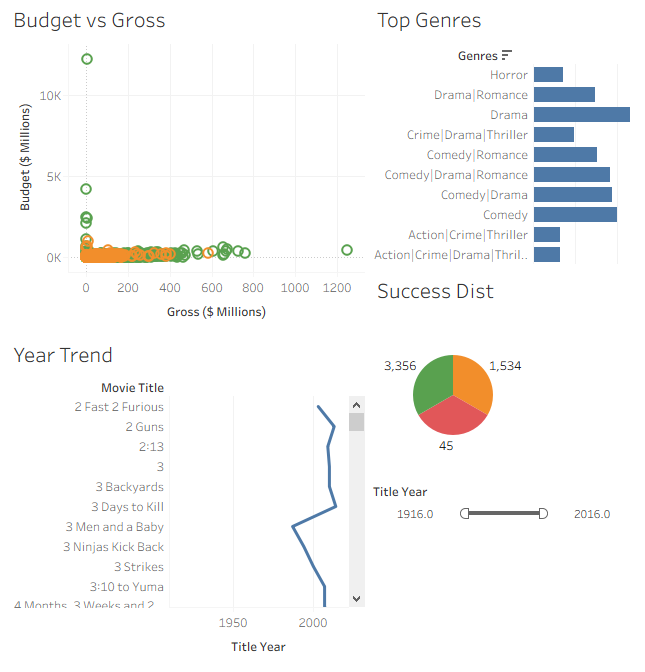

The page's visual inventory and layout, read from the dashboard file:
{"tool":"tableau","page":{"name":"Movie Success Dashboard","canvas":[650,860],"ordinal":0},"visuals":[{"type":"worksheet","title":"Budget vs Gross","mark":"Automatic","rows":["budget_millions"],"cols":["gross_millions"],"box":[8,10,364,420]},{"type":"worksheet","title":"Top Genres","mark":"Automatic","rows":["genres"],"cols":["movie_title"],"box":[372,10,270,340.2]},{"type":"worksheet","title":"Success Dist","mark":"Pie","box":[372,350.3,270,264.9]},{"type":"worksheet","title":"Year Trend","mark":"Line","rows":["movie_title"],"cols":["title_year"],"box":[8,430,364,420]},{"type":"filter","title":"Year Trend","param":"[federated.1qa7n2u13hrkqs13mwve018kdb5x].[none:title_year:qk]","box":[372,615.2,270,64]}]}

Visuals, with their boxes on the page's 650x860 design canvas (x1, y1, x2, y2). These are canvas units, not pixel positions in the 645x672 screenshot, which may show the page scaled, cropped or inside an application window:
"Budget vs Gross" worksheet: 8/10/372/430
"Top Genres" worksheet: 372/10/642/350
"Success Dist" worksheet (Pie marks): 372/350/642/615
"Year Trend" worksheet (Line marks): 8/430/372/850
"Year Trend" filter: 372/615/642/679
